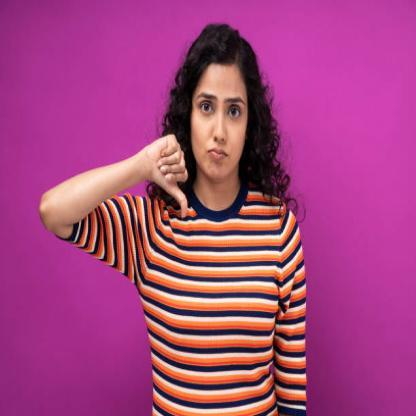thumb_down: (144, 131, 194, 222)
